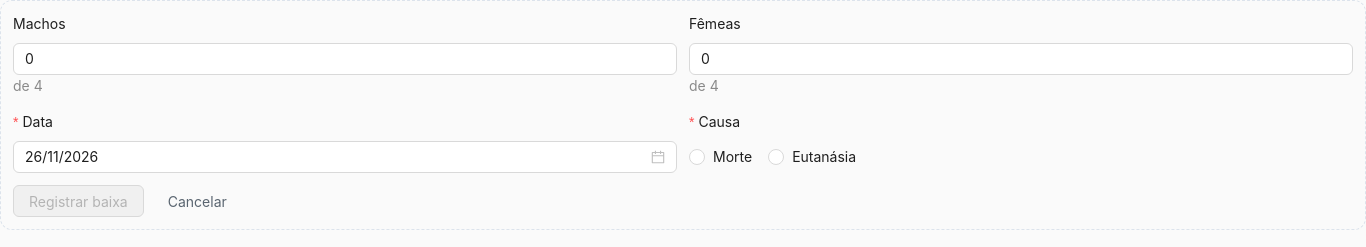
Scenario: baixa › a mensagem de sucesso traz o Desfazer, que anula a baixa recém-criada
The width and height of the screenshot is (1366, 247).
Replace the text in the number field labelled "Machos" with "1": (345, 59) [14, 44, 676, 74]
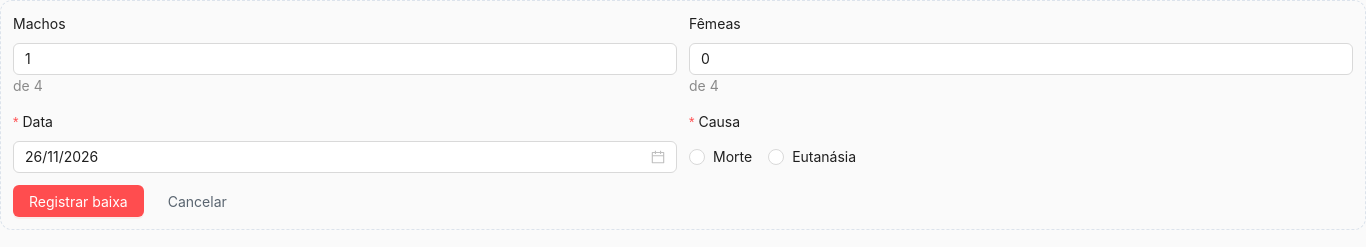
Click the radio button labelled "Morte": (725, 157) [689, 146, 760, 168]
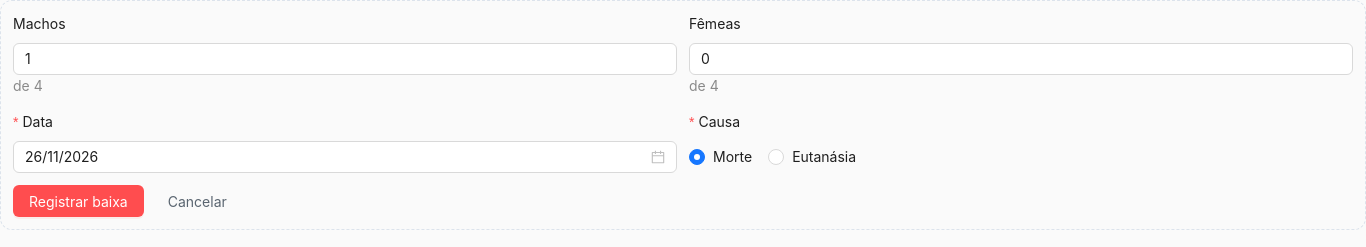
Click the button "Registrar baixa": (78, 201) [13, 185, 144, 217]
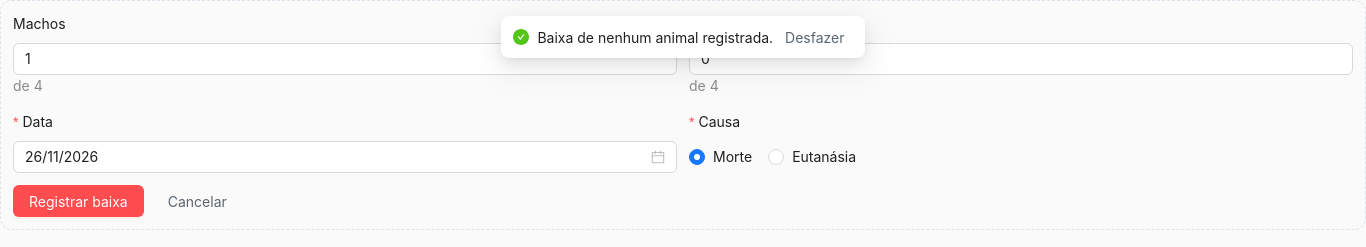
Click the button "Desfazer": (815, 37) [777, 25, 853, 49]
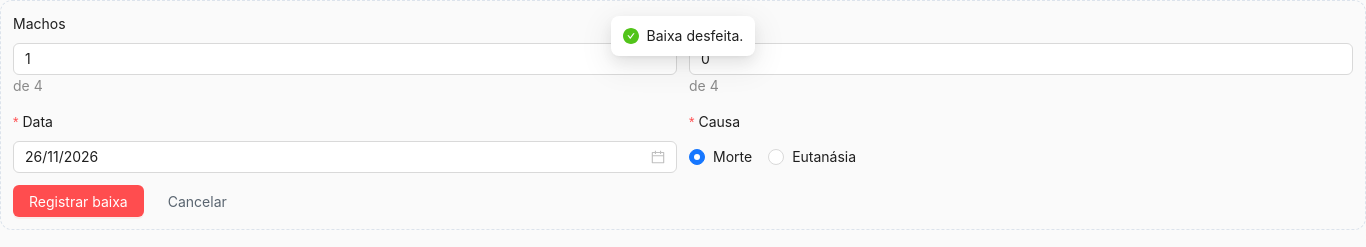
Now the text "Baixa desfeita." is shown, box [647, 25, 744, 47]
